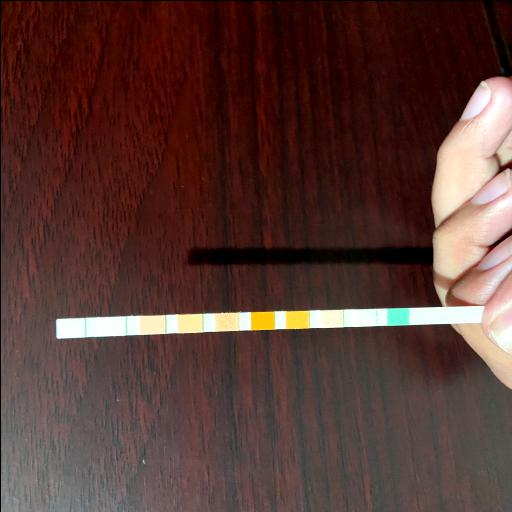Bilirubin: (354, 308, 376, 324)
Blood: (250, 312, 274, 328)
Glucose: (386, 308, 408, 324)
Ketone: (320, 310, 342, 326)
Leukocytes: (56, 318, 84, 336)
Nitrite: (98, 316, 124, 334)
Protein: (176, 314, 202, 332)
SpGravity: (285, 310, 308, 327)
Urobilinogen: (138, 316, 164, 332)
pH: (214, 312, 238, 330)
strip: (54, 305, 477, 338)
